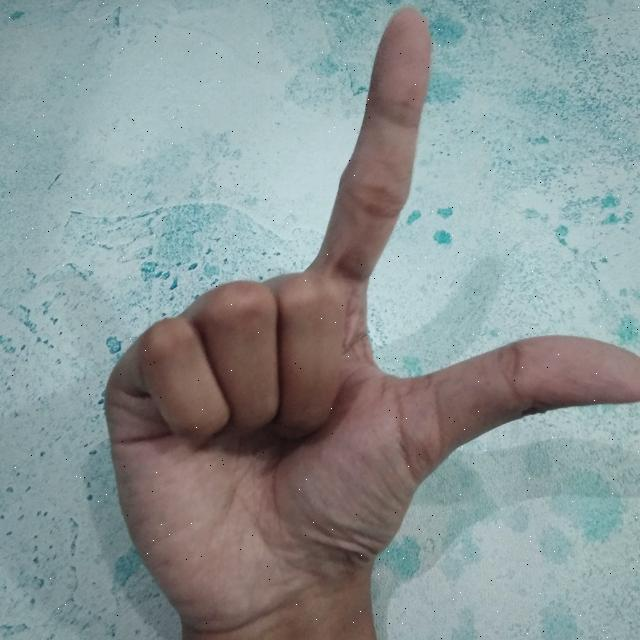L: (101, 3, 640, 640)
